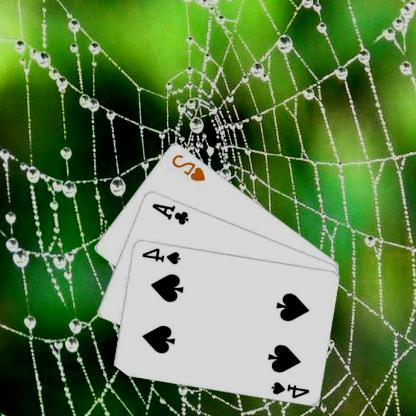2H: (170, 150, 208, 183)
4S: (140, 245, 184, 265), (270, 379, 312, 399)
AC: (150, 200, 192, 226)
